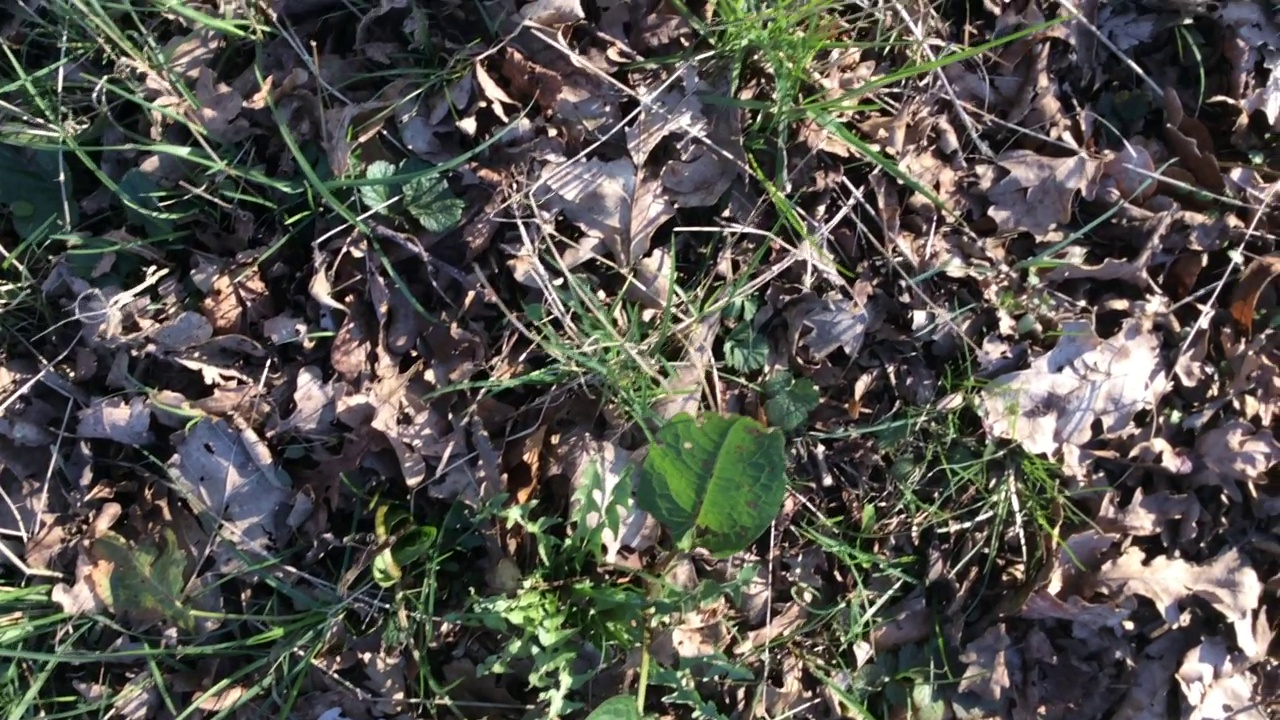rumex: (585, 412, 784, 720)
